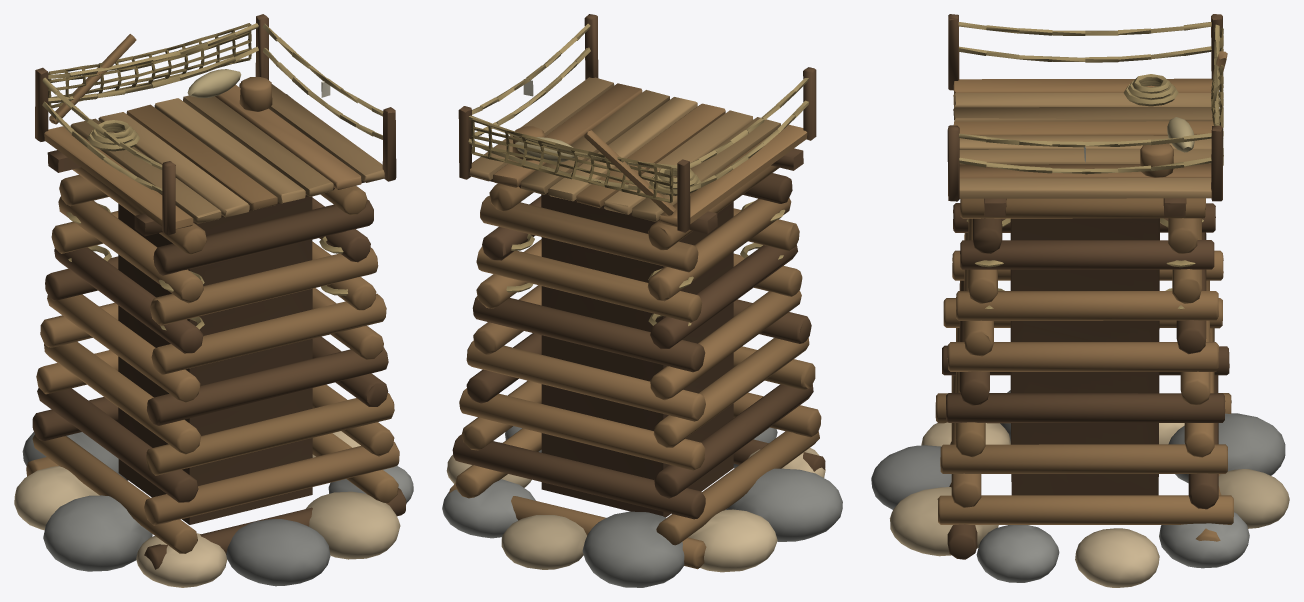
File: lookout_deck_c_lod1.glb
The picture shows the model from 3 angles, left to right: view 1: azimuth 30°, elevation 25°; view 2: azimuth 150°, elevation 25°; view 3: azimuth 270°, elevation 25°; orthographic projection. The views are drawn at different scales.
Visible parts, largest first — view 1: Surface.001; view 2: Surface.001; view 3: Surface.001.
Part boxes in pixels (x1=…): Surface.001: x1=14, y1=14, x2=413, y2=587; Surface.001: x1=442, y1=14, x2=842, y2=587; Surface.001: x1=871, y1=14, x2=1289, y2=587.
Bounding box in the file's own units: 7.07 × 8.4 × 6.99.
